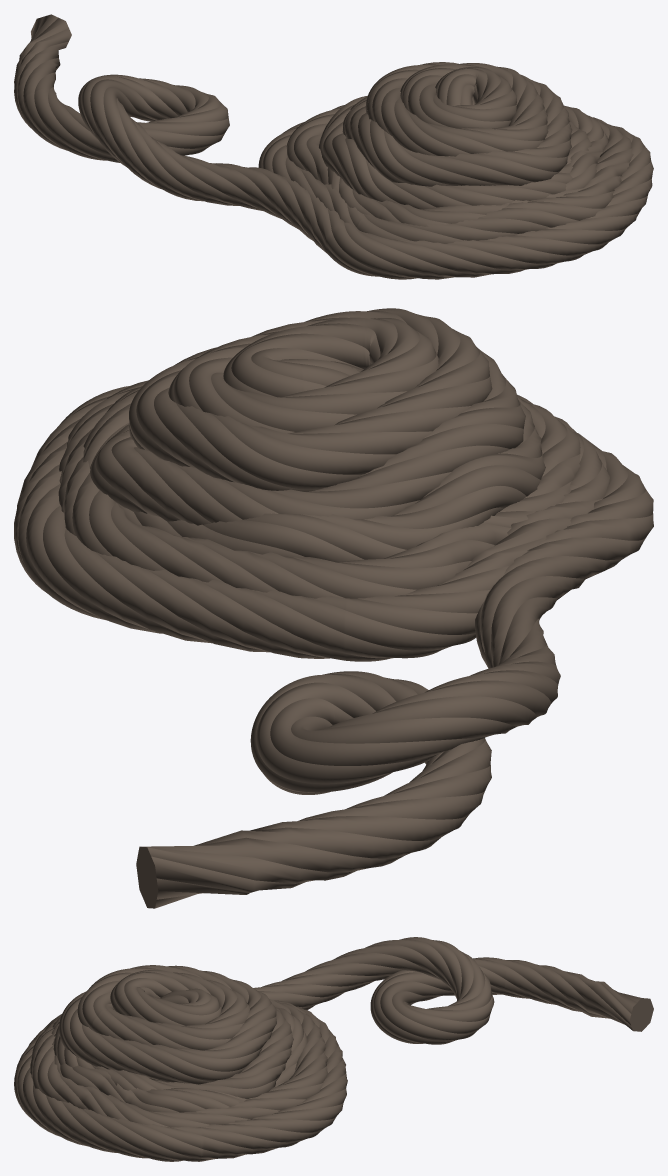
The model's file is rope_pile.fbx.
3 views of the same model, one above another, from view 1: azimuth 30°, elevation 25°; view 2: azimuth 150°, elevation 25°; view 3: azimuth 270°, elevation 25° (orthographic). The views are drawn at different scales.
Visible parts, largest first — view 1: rope_pile:sweep2; view 2: rope_pile:sweep2; view 3: rope_pile:sweep2.
Part boxes in pixels (bbox=[...]): rope_pile:sweep2: bbox=[14, 14, 653, 279]; rope_pile:sweep2: bbox=[14, 308, 653, 908]; rope_pile:sweep2: bbox=[14, 937, 653, 1161].
Bounding box in the file's own units: 9.14 × 2.52 × 13.3.
